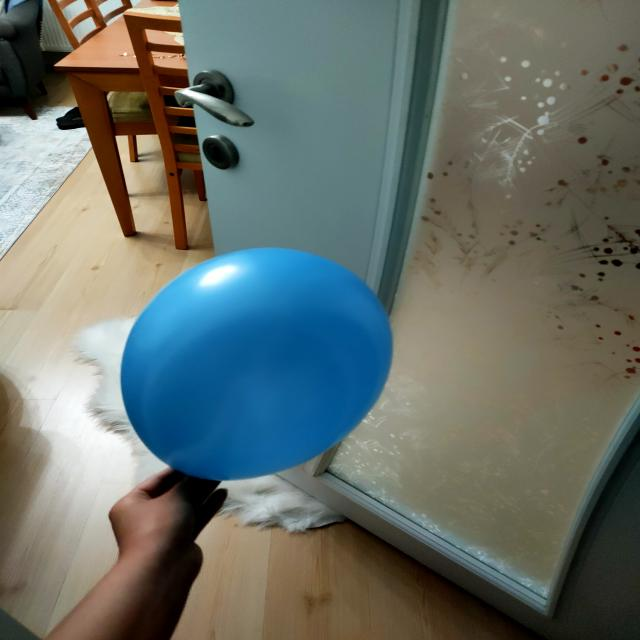blue: (121, 248, 394, 485)
